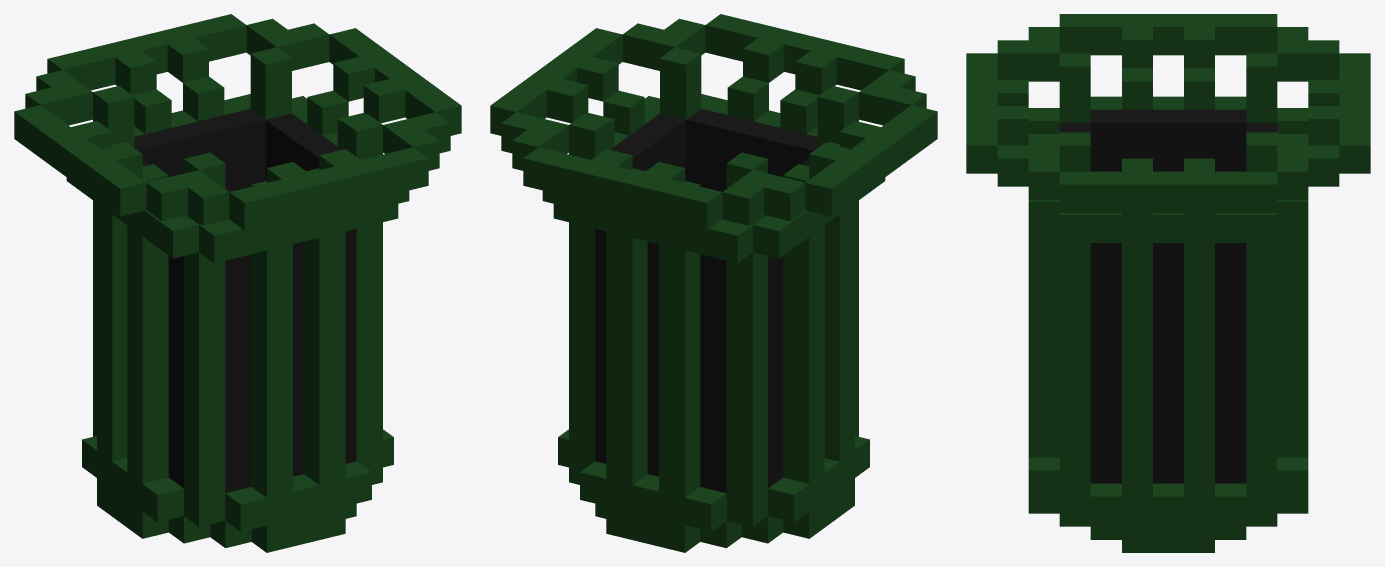
Rendered from Park_Bin_01.glb.
3 renders of one model, left to right at view 1: azimuth 30°, elevation 25°; view 2: azimuth 150°, elevation 25°; view 3: azimuth 270°, elevation 25°, orthographic. The views are drawn at different scales.
Parts seen in each view (by area): view 1: Park_Bin_01; view 2: Park_Bin_01; view 3: Park_Bin_01.
Boxes of the visible parts, x1,y1,x2,y2 form: Park_Bin_01: (14,14,461,552); Park_Bin_01: (490,14,937,552); Park_Bin_01: (966,14,1370,552).
Size of the model in its own units: 1.3 by 1.4 by 1.3.
1 material, 1 textured.
